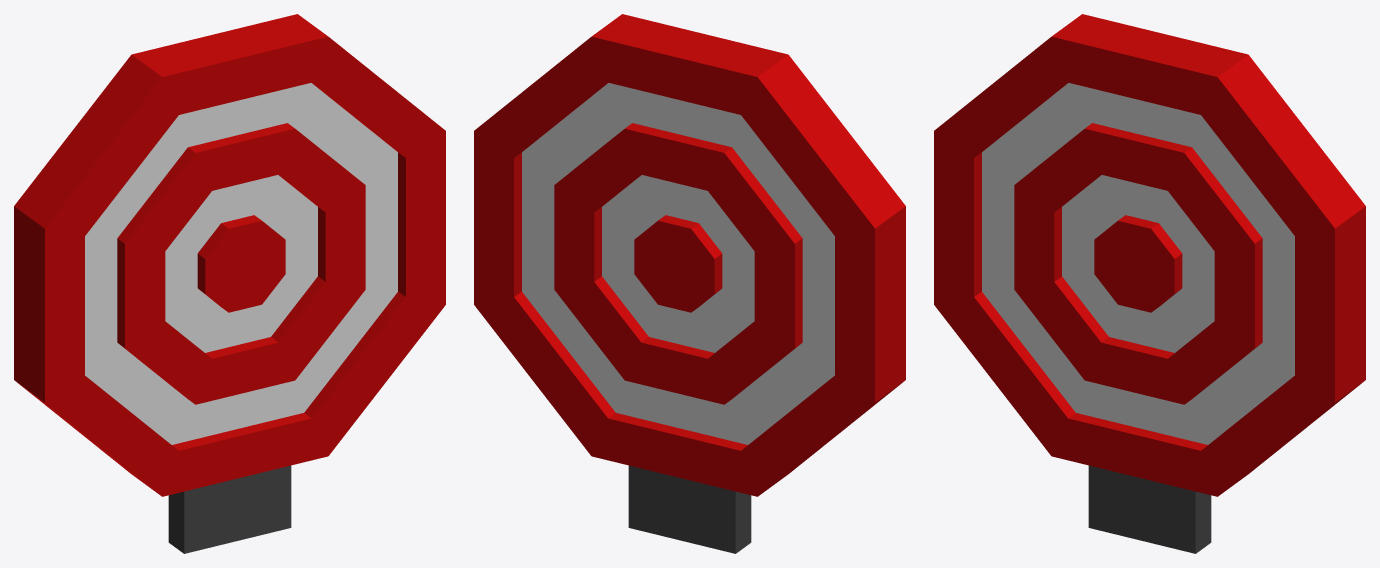
The model's file is TargetStopsign.fbx.
3 views of the same model, side by side, from view 1: azimuth 30°, elevation 25°; view 2: azimuth 150°, elevation 25°; view 3: azimuth 330°, elevation 25° (orthographic).
Parts seen in each view (by area): view 1: TargetStopsign; view 2: TargetStopsign; view 3: TargetStopsign.
Part boxes in pixels (bbox=[...]): TargetStopsign: bbox=[14, 14, 445, 553]; TargetStopsign: bbox=[474, 14, 905, 553]; TargetStopsign: bbox=[934, 14, 1365, 553].
Size of the model in its own units: 75 by 87.5 by 10.
